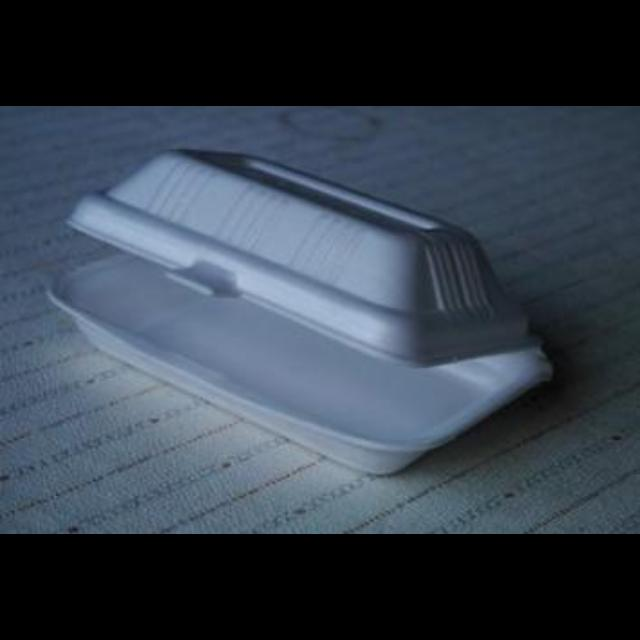plastic_box: (37, 134, 555, 478)
